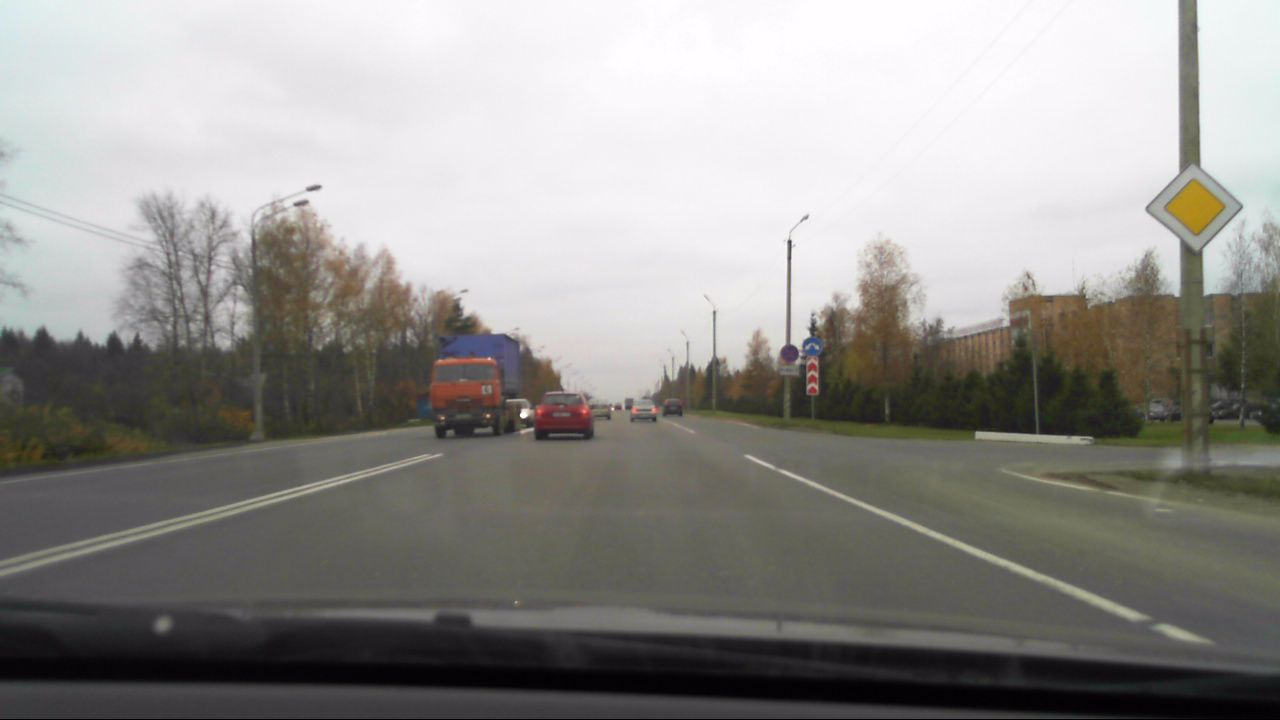No Parking: (777, 342, 800, 366)
